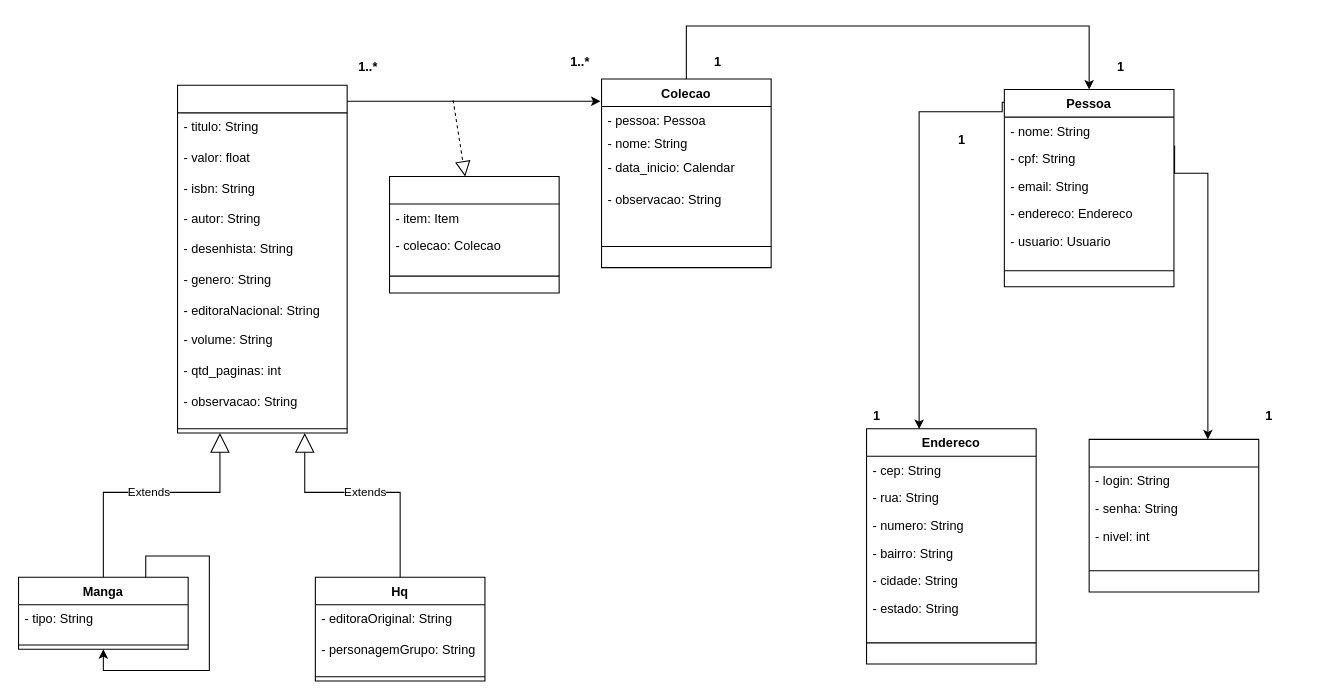
Some shapes in this 1330 by 700 pixel diagram are drawn without their labels. Here are the shapes that lost their labels. From the top down, the box of each, then its label:
(388, 175, 559, 293): Item_Colecao
(176, 84, 347, 433): Item
(1088, 438, 1259, 592): Usuario
